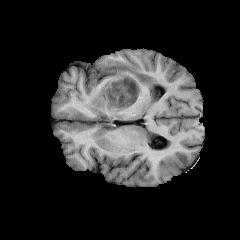glioma: (101, 60, 159, 117)
